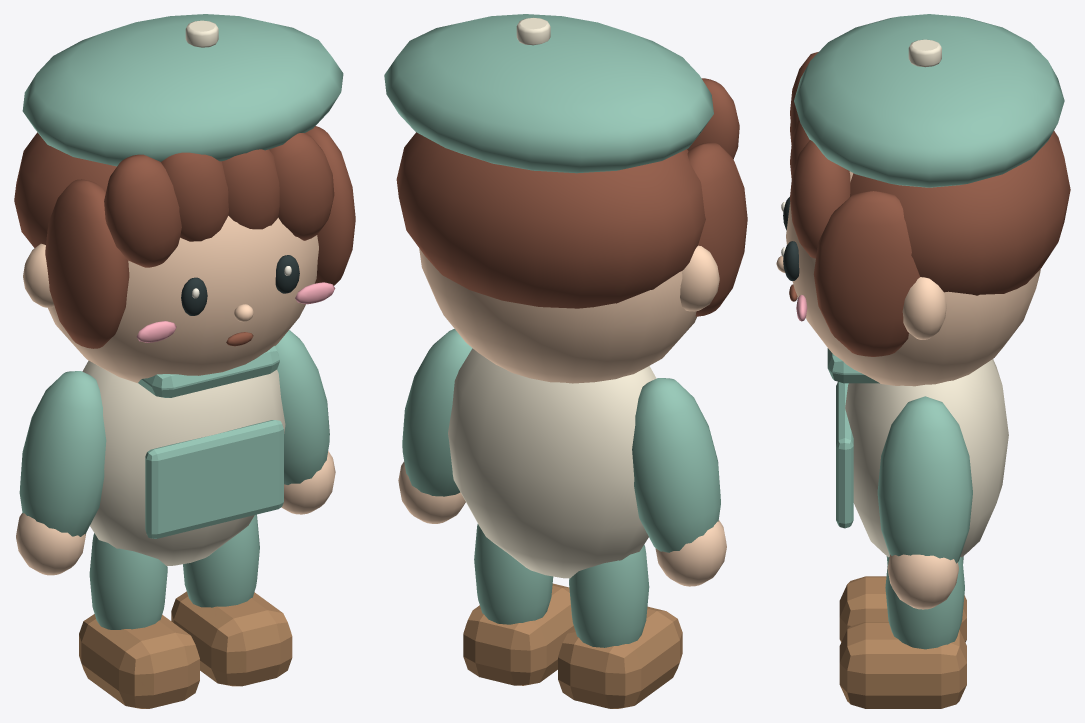
Rendered from citizen.glb.
3 views of the same model, side by side, from view 1: azimuth 30°, elevation 25°; view 2: azimuth 150°, elevation 25°; view 3: azimuth 270°, elevation 25° (orthographic). The views are drawn at different scales.
Parts seen in each view (by area): view 1: citizen; view 2: citizen; view 3: citizen.
Part boxes in pixels (left/top/right/bottom): citizen: left=14, top=14, right=355, bottom=708; citizen: left=384, top=14, right=747, bottom=708; citizen: left=776, top=14, right=1070, bottom=708.
Size of the model in its own units: 0.915 by 1.79 by 0.739.
